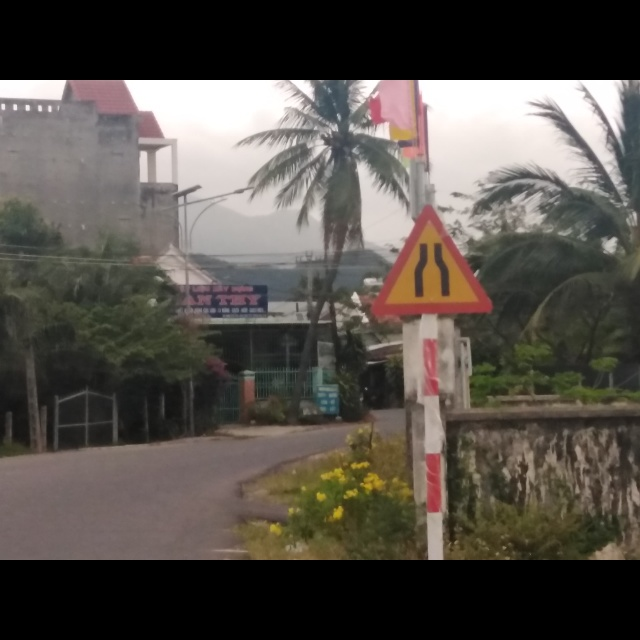Đường bị hẹp cả hai bên: (367, 203, 491, 318)
